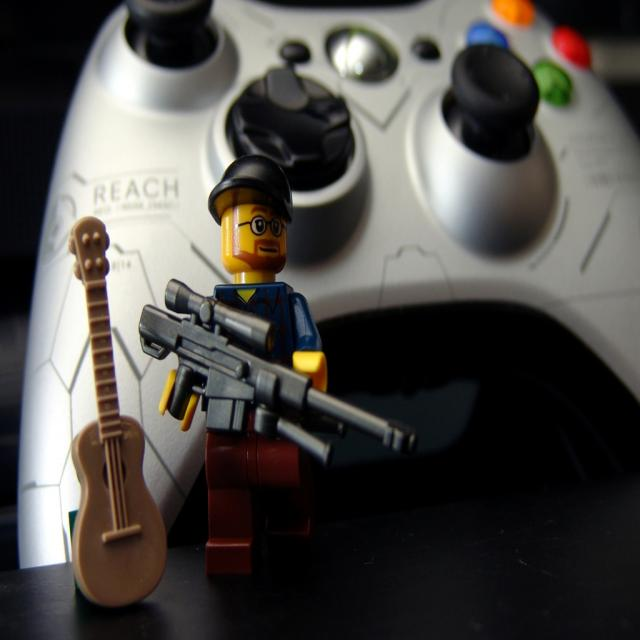heavy-weapon: (140, 278, 415, 461)
